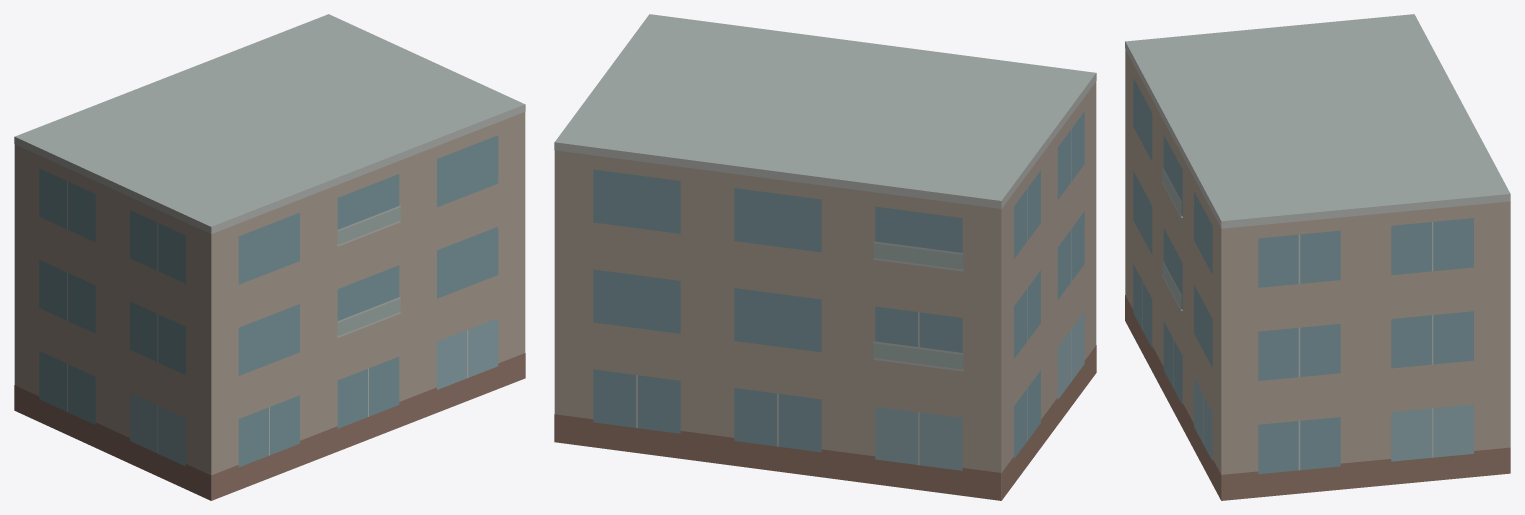
File: survey-upis-32646363.glb
3 views of the same model, side by side, from view 1: azimuth 30°, elevation 25°; view 2: azimuth 150°, elevation 25°; view 3: azimuth 270°, elevation 25° (orthographic). The views are drawn at different scales.
Parts seen in each view (by area): view 1: survey-upis-32646363.tmp; view 2: survey-upis-32646363.tmp; view 3: survey-upis-32646363.tmp.
Part boxes in pixels (bbox=[...]): survey-upis-32646363.tmp: bbox=[14, 14, 525, 500]; survey-upis-32646363.tmp: bbox=[554, 14, 1096, 500]; survey-upis-32646363.tmp: bbox=[1125, 14, 1510, 500].
Bounding box in the file's own units: 14.56 × 9.15 × 11.44.
